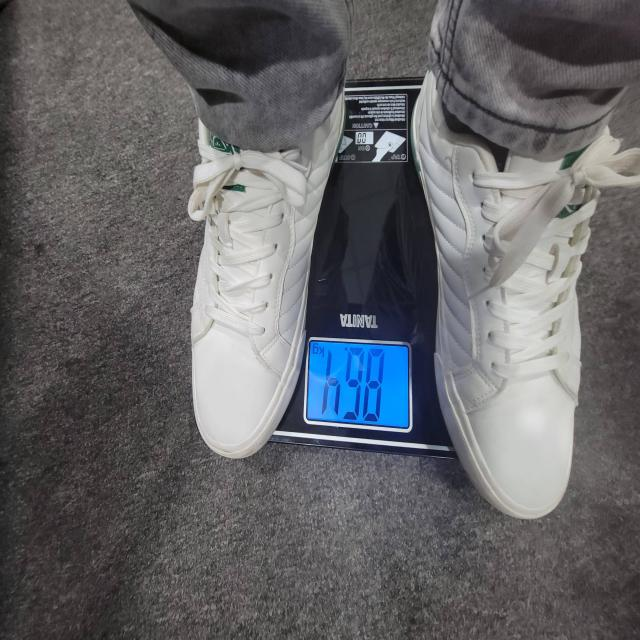ws: (274, 91, 449, 455)
